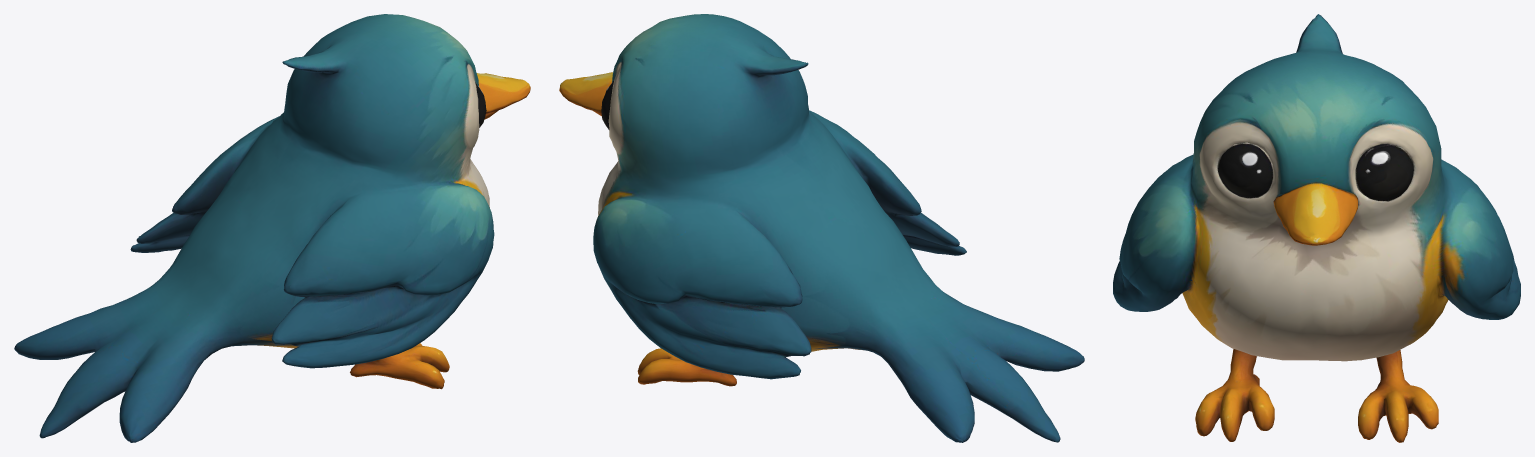
File: Blue_Bird.glb
The picture shows the model from 3 angles, left to right: view 1: azimuth 30°, elevation 25°; view 2: azimuth 150°, elevation 25°; view 3: azimuth 270°, elevation 25°; orthographic projection. The views are drawn at different scales.
Parts seen in each view (by area): view 1: Cute_Cartoon_Blue_Bird; view 2: Cute_Cartoon_Blue_Bird; view 3: Cute_Cartoon_Blue_Bird.
Boxes of the visible parts, x1,y1,x2,y2 form: Cute_Cartoon_Blue_Bird: [14, 14, 530, 442]; Cute_Cartoon_Blue_Bird: [559, 14, 1084, 442]; Cute_Cartoon_Blue_Bird: [1113, 14, 1520, 442].
Bounding box in the file's own units: 0.998 × 0.6309 × 0.6309.
1 material, 1 textured.
